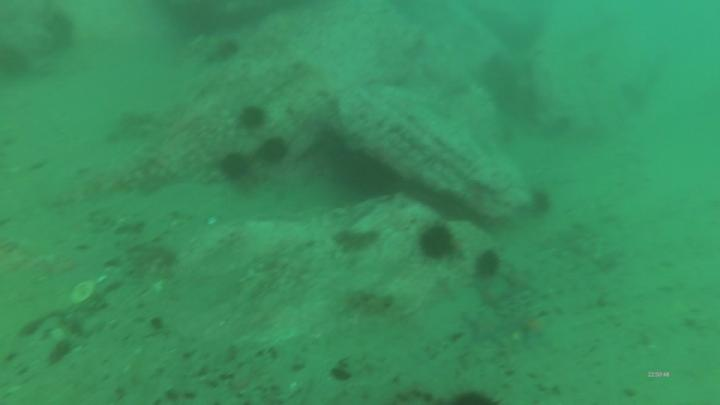echinus: (415, 221, 459, 264), (46, 12, 78, 56), (472, 247, 507, 285), (1, 45, 31, 84), (219, 151, 254, 184), (450, 384, 501, 405), (235, 105, 270, 133), (260, 138, 290, 167), (530, 188, 555, 220), (212, 39, 241, 63)
holothurian: (341, 288, 397, 320), (331, 225, 382, 258)
starfish: (467, 312, 511, 350), (511, 308, 550, 343), (500, 263, 540, 296), (473, 280, 509, 313)
